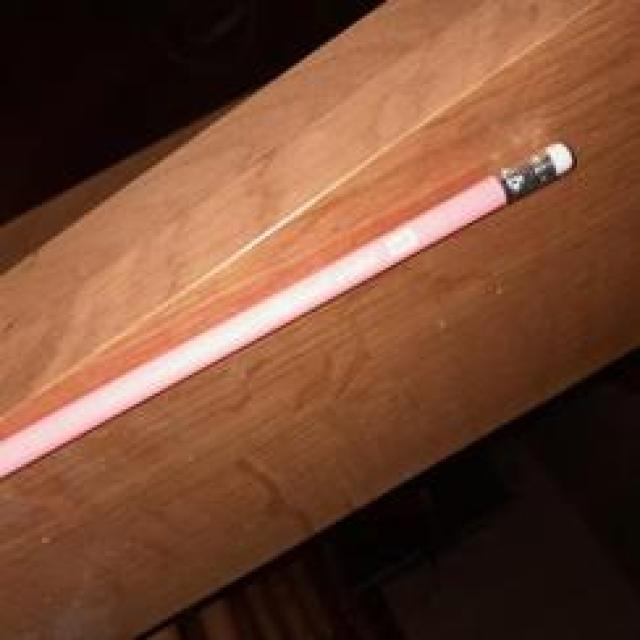pencil: (0, 127, 604, 499)
